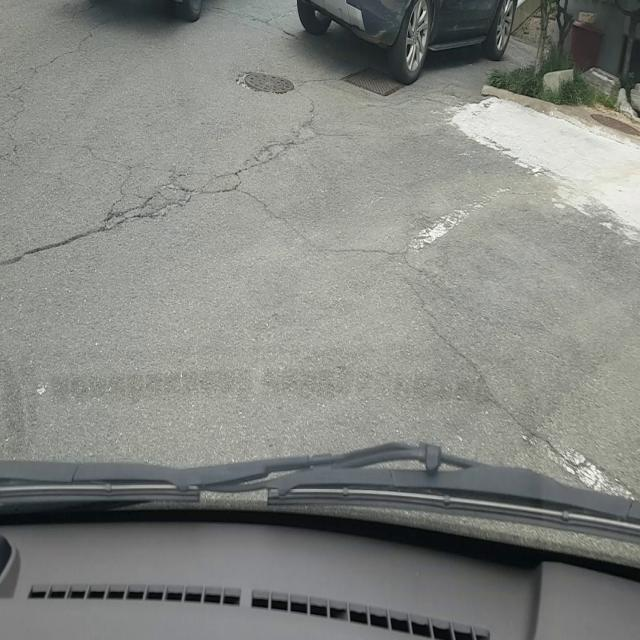Pothole: (235, 68, 296, 96)
